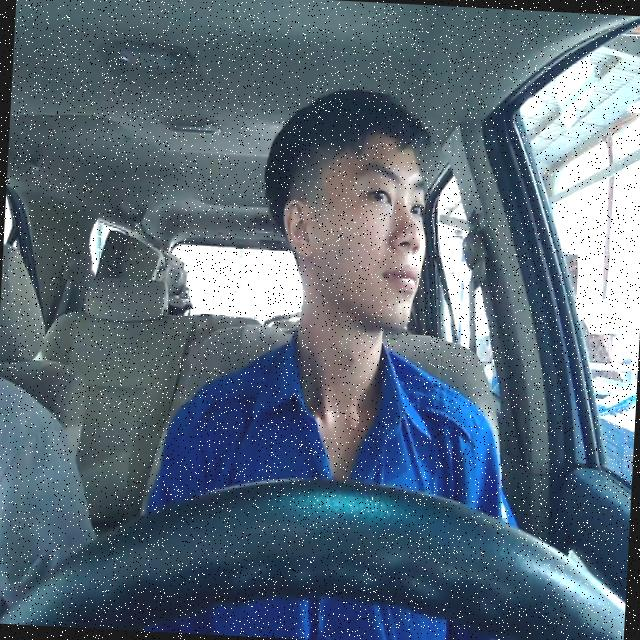seeing_right: (274, 124, 434, 334)
